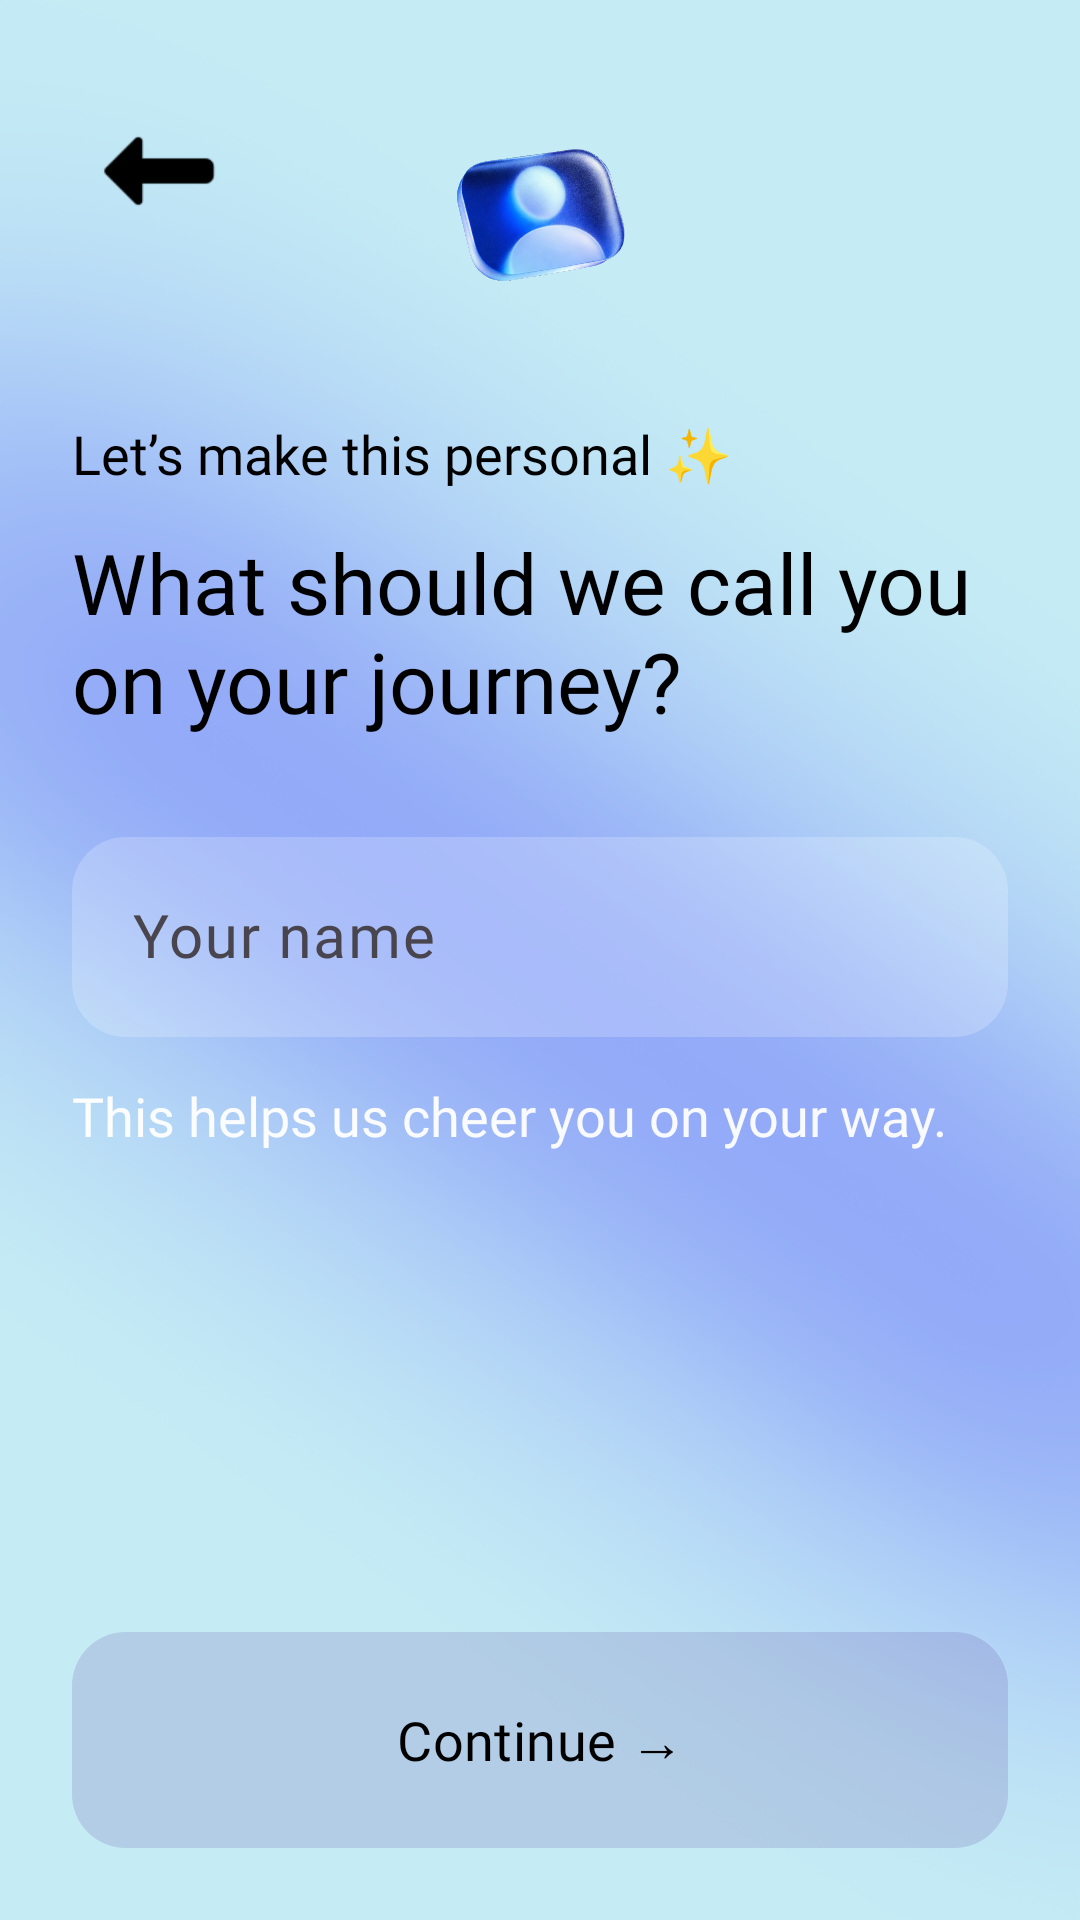

Locate icon controls on the screen. Image size 1080 × 1920, boxes as (x1, y1, x2, y2).
back: (104, 136, 215, 206)
